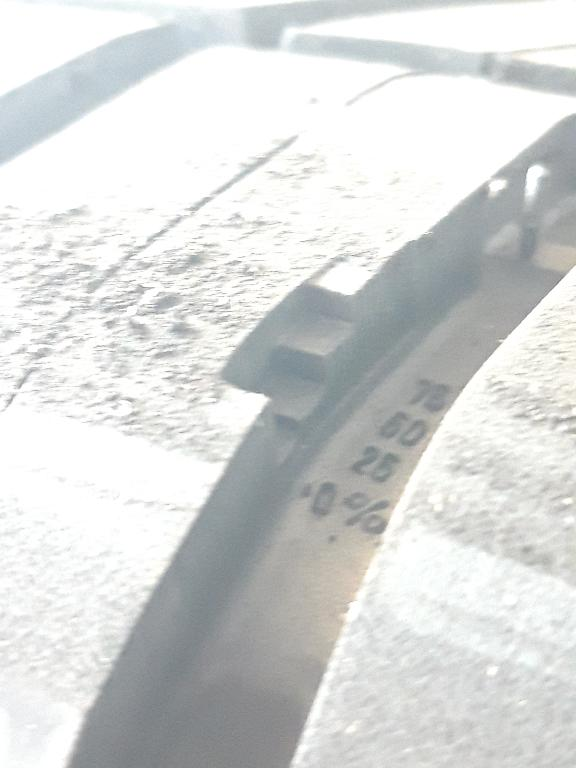temoin:75: (210, 249, 410, 493)
